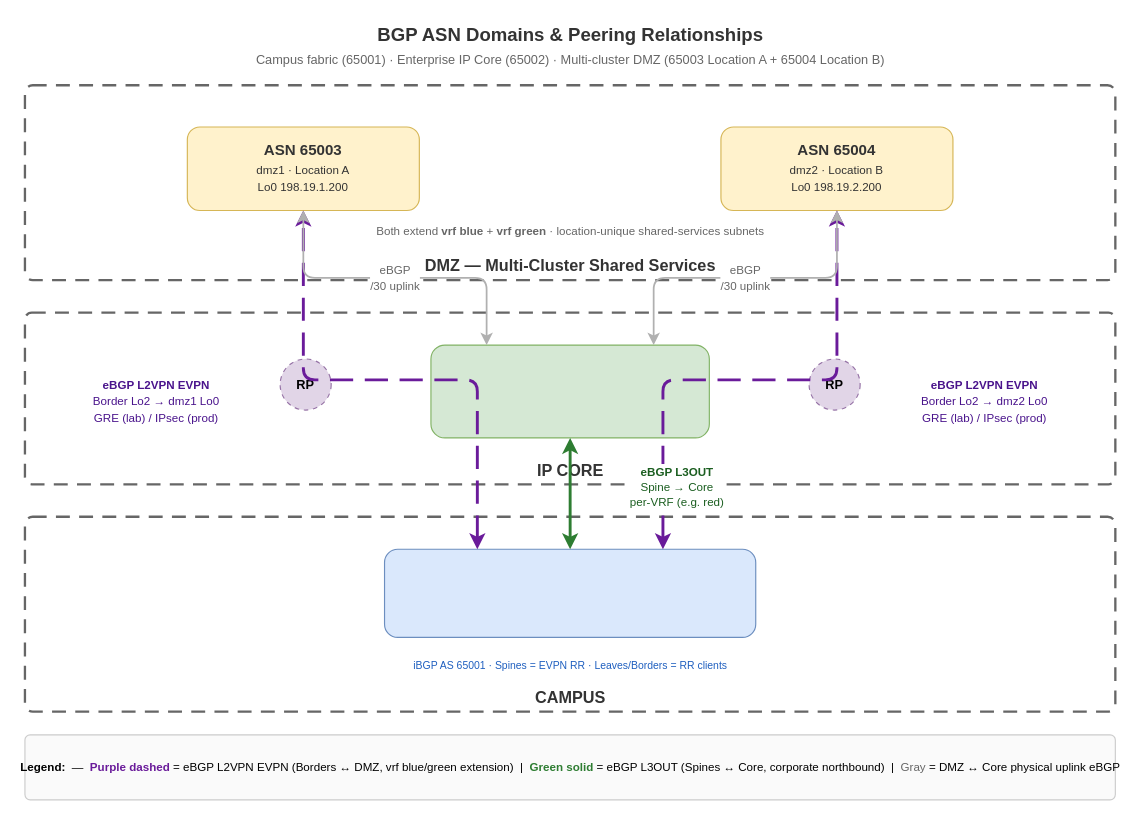
This 1139x820 diagram has some shape labels left out. Each missing label, with the centre of its shape:
"ASN 65001 Spine-RR · Leaf · Border iBGP EVPN + OSPF 1 area 0 (underlay)" goes at pixel 569 592.
"ASN 65002 core1 / core2 Enterprise Anycast RP Lo2 198.19.1.254" goes at pixel 569 391.
